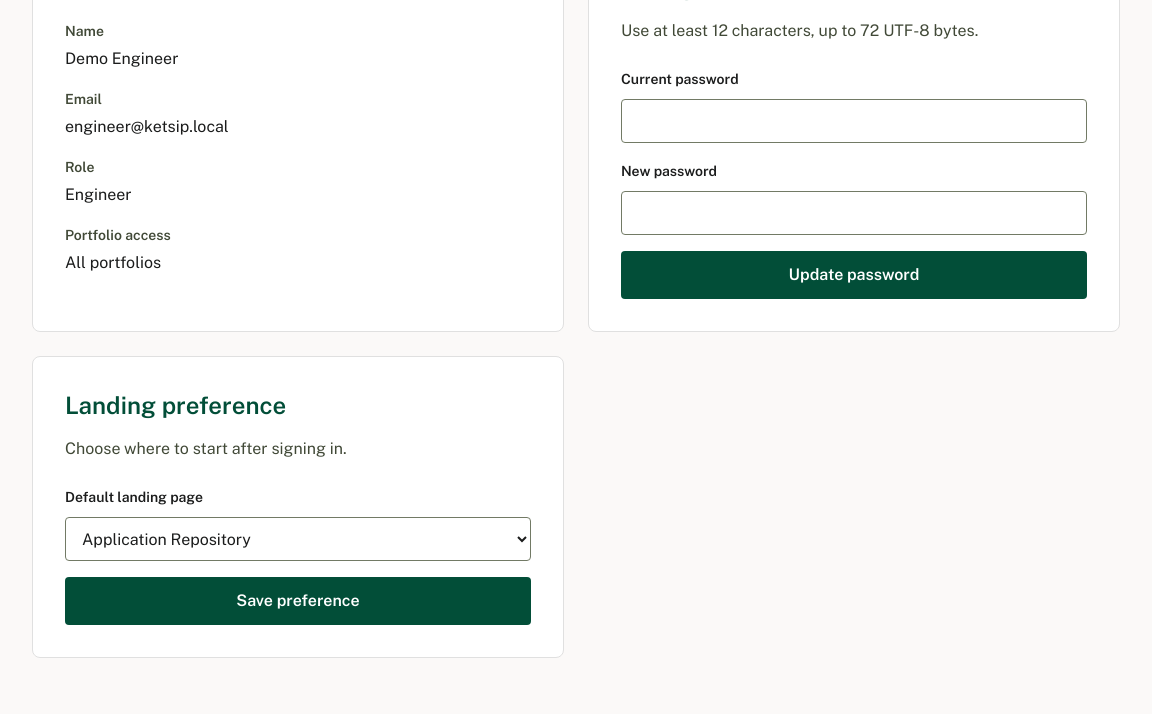
it: local identity › saves a preference and shows a server error
(page scrolled)
Select "Executive Dashboard" in the dropdown labelled "Default landing page": point(298, 539) 65,517 -> 531,561
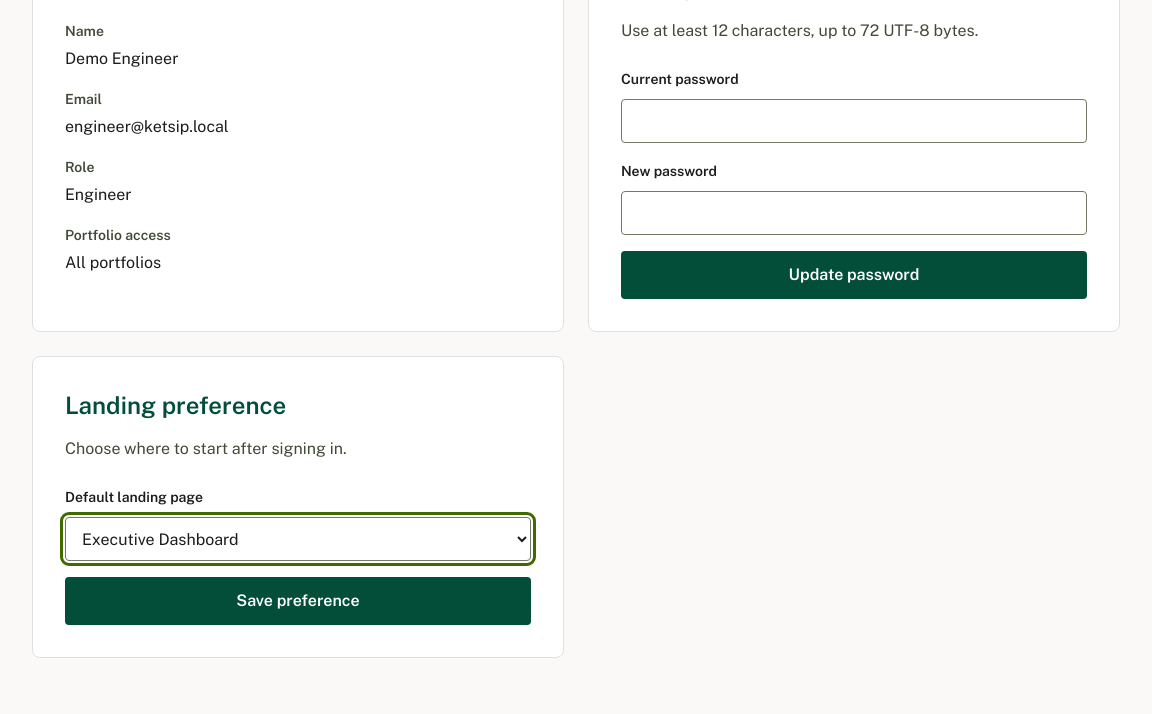
Click the button "Save preference": point(298, 601) 65,577 -> 531,625
(page scrolled)
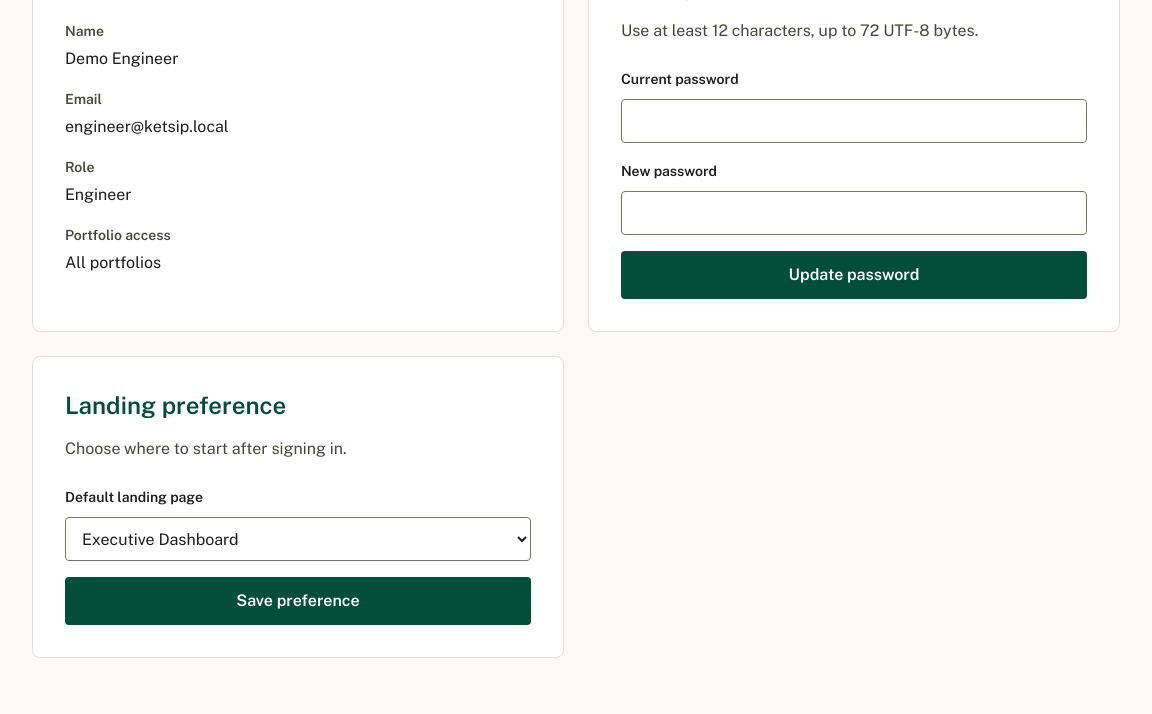
In the password field labelled "Current password": point(854, 121) 621,99 -> 1087,143, type "wrong"
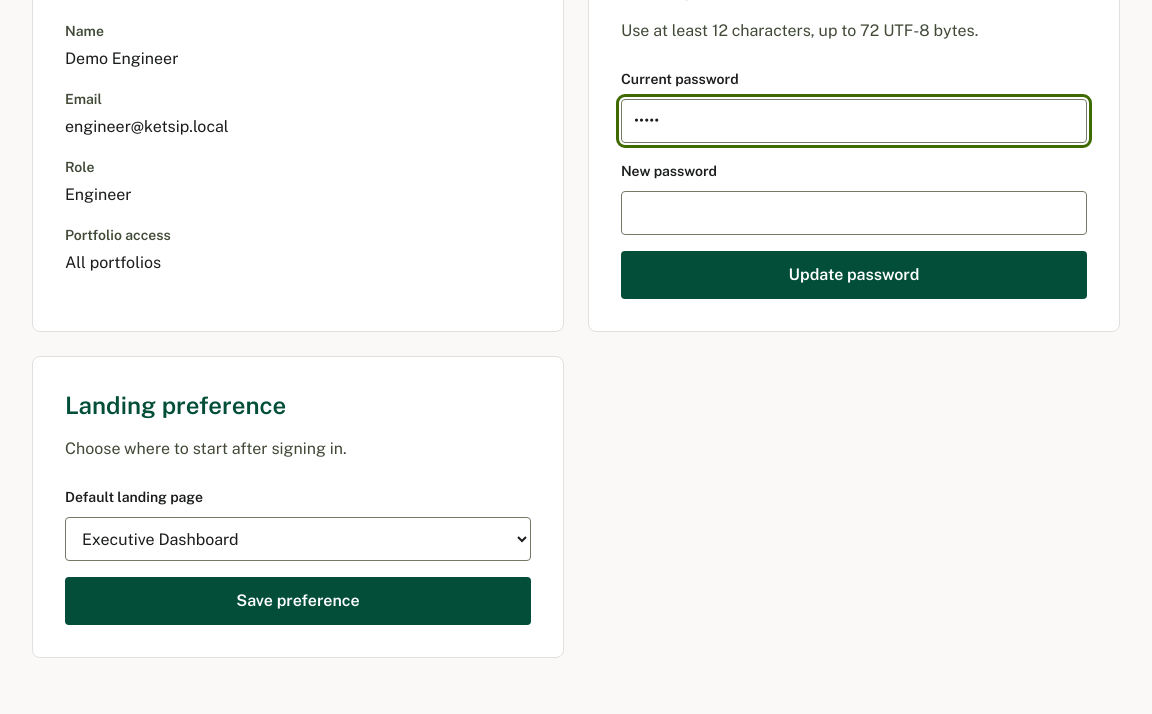
In the password field labelled "New password": point(854, 213) 621,191 -> 1087,235, type "new-password-123"
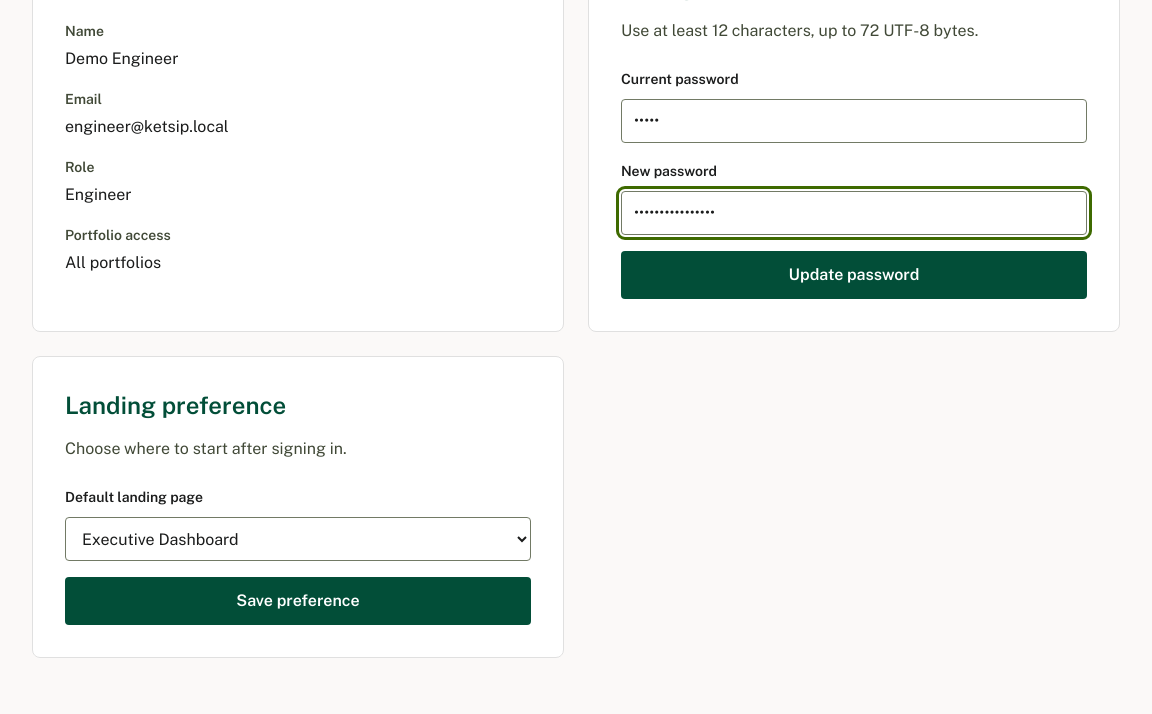
Click the button "Update password": point(854, 275) 621,251 -> 1087,299
(page scrolled)
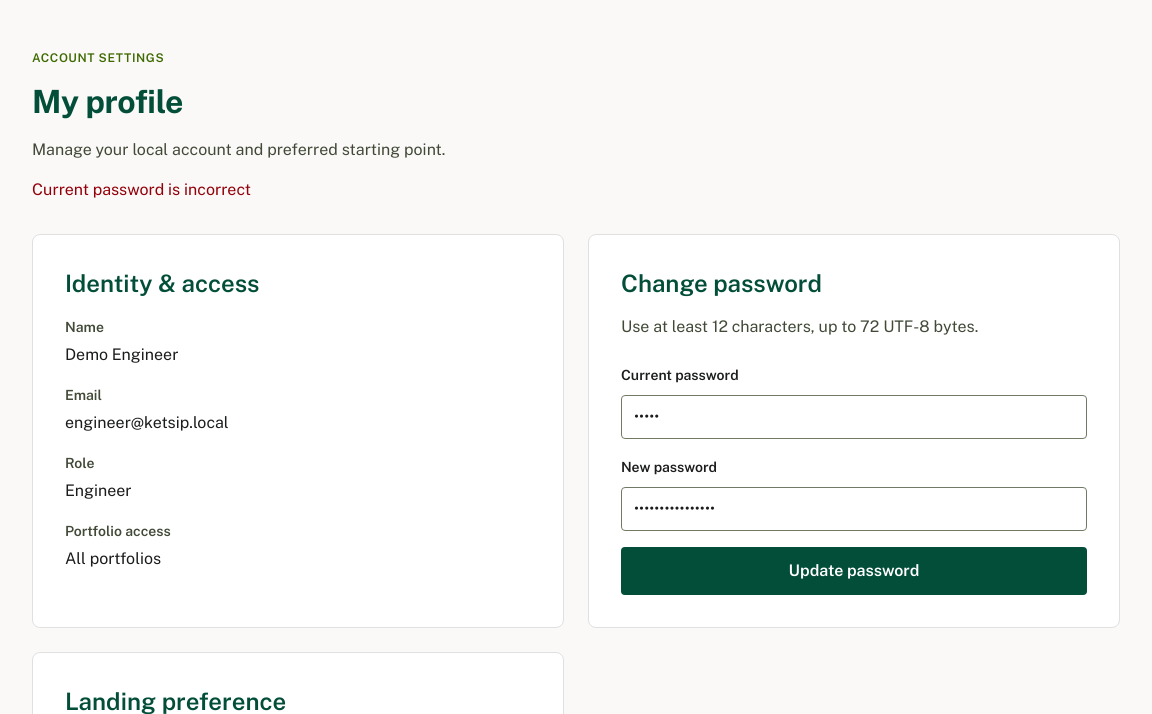
Now the message shows "incorrect", box 32,180 -> 251,199
